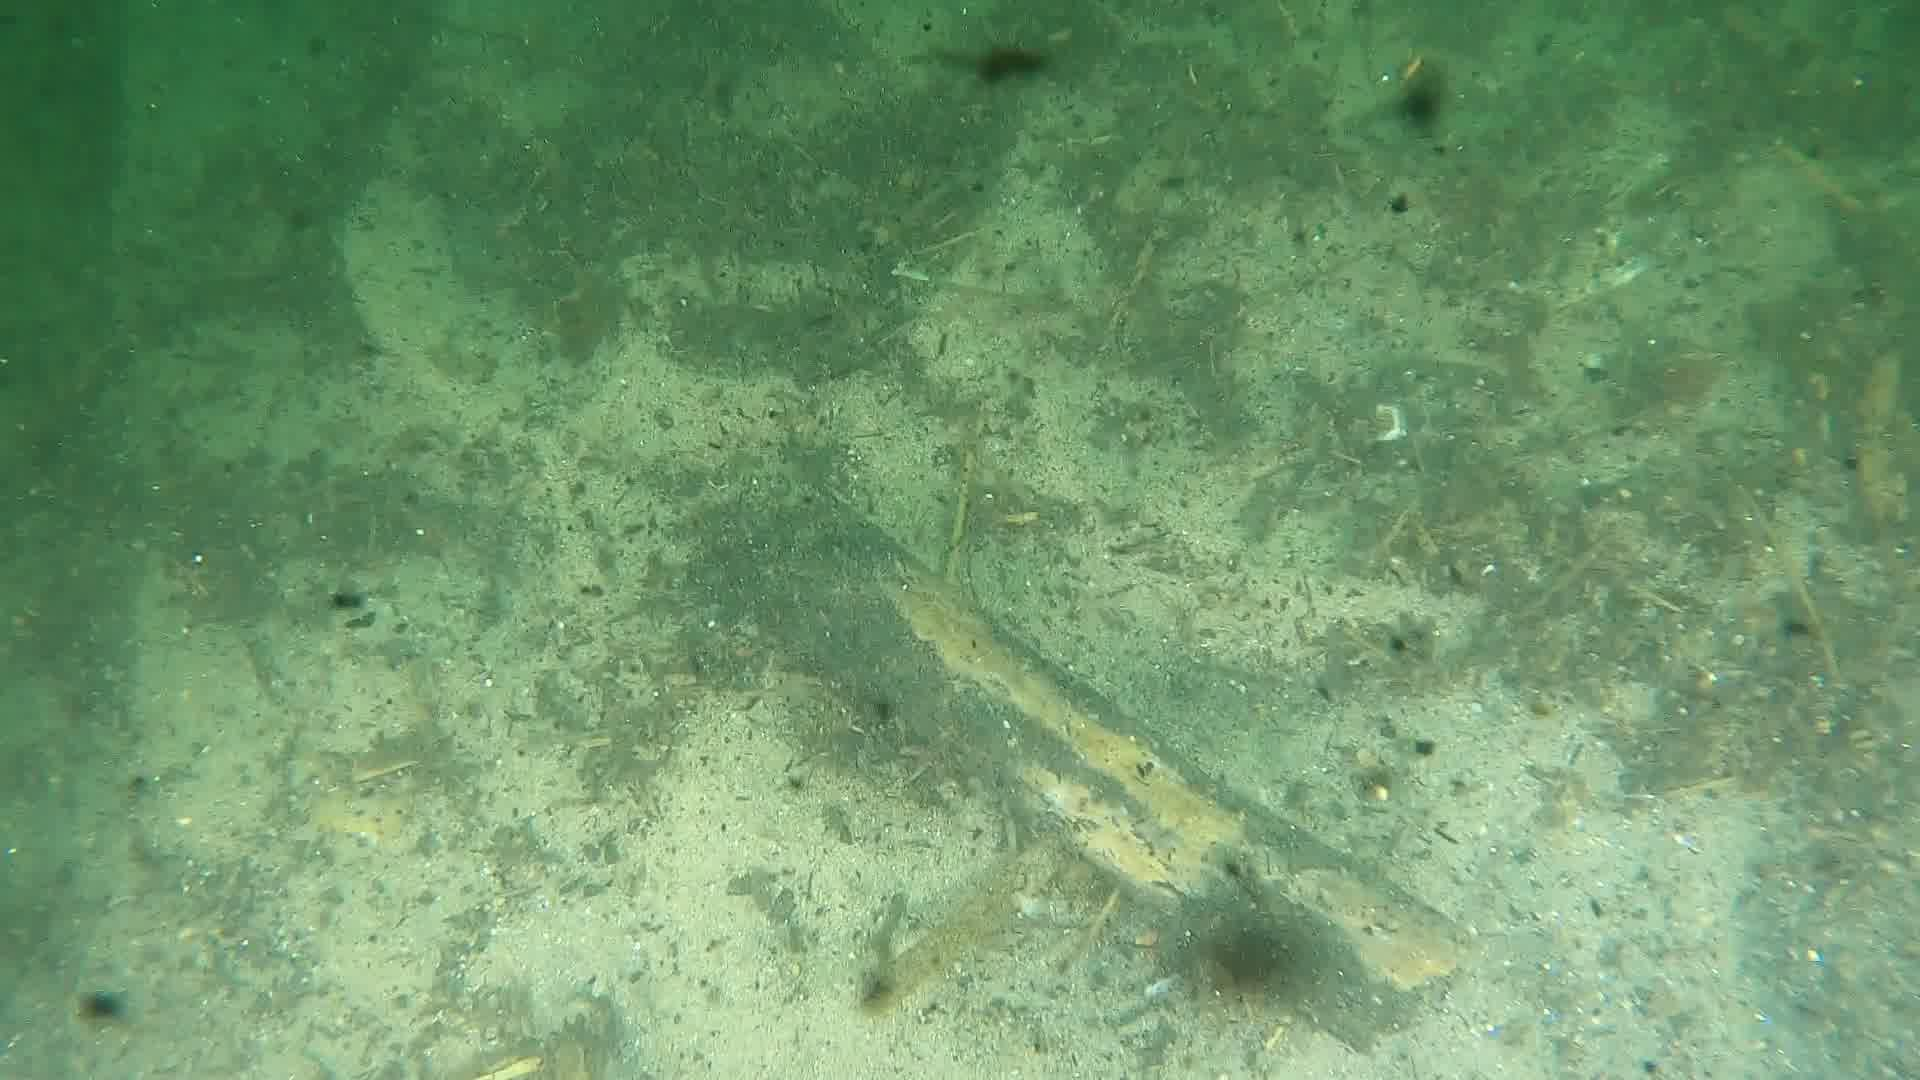wood: (823, 493, 1476, 1042)
